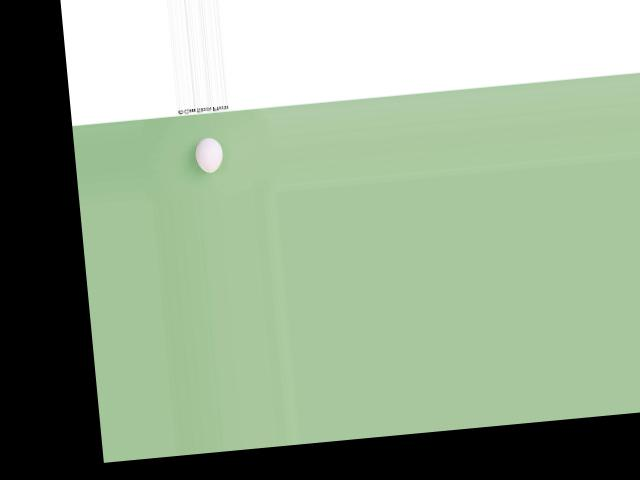egg: (194, 136, 224, 173)
